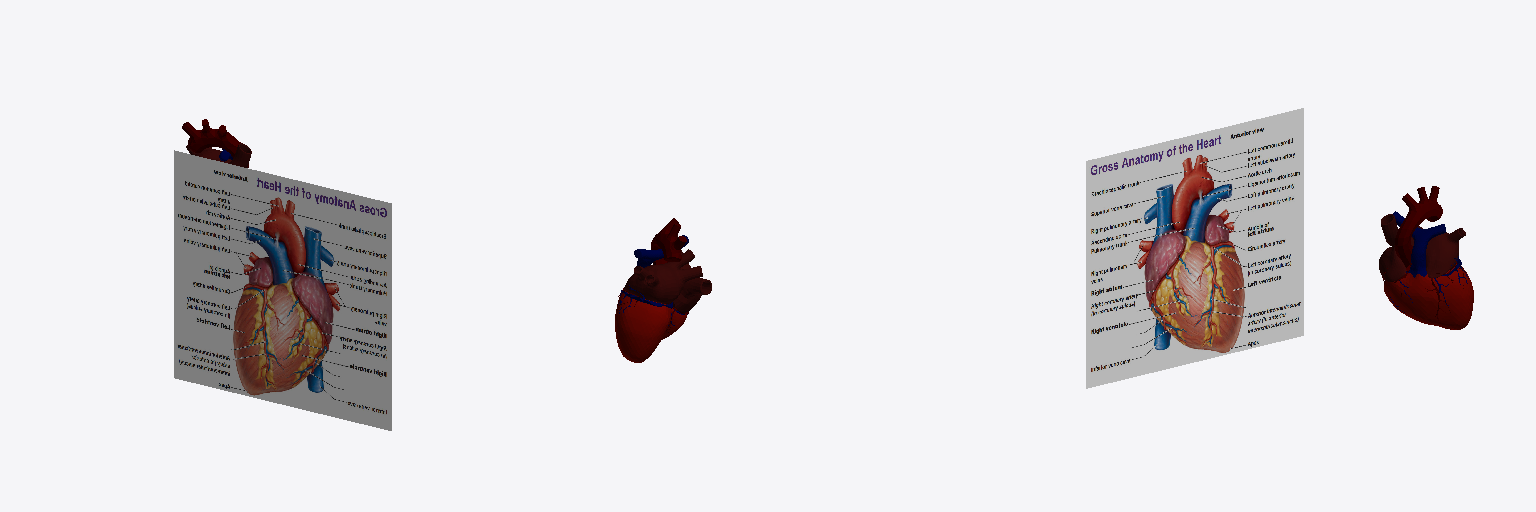
3 views of the same model, side by side, from view 1: azimuth 30°, elevation 25°; view 2: azimuth 150°, elevation 25°; view 3: azimuth 270°, elevation 25° (orthographic).
Visible parts, largest first — view 1: Plane, Aorta_Cube.003; view 2: Ventriculos_Cube.001, Auricula_der_Cube.002, Aorta_Cube.003, Auricula_izq_Cube.004; view 3: Plane, Ventriculos_Cube.001, Aorta_Cube.003, Auricula_der_Cube.002, Auricula_izq_Cube.004, Ventriculos_Cube.000.
Boxes of the visible parts, <box> form: Plane: <box>174,150,391,430</box>; Aorta_Cube.003: <box>182,119,248,167</box>; Ventriculos_Cube.001: <box>615,291,686,362</box>; Auricula_der_Cube.002: <box>624,249,702,304</box>; Aorta_Cube.003: <box>651,218,686,264</box>; Auricula_izq_Cube.004: <box>673,235,711,312</box>; Plane: <box>1086,108,1303,388</box>; Ventriculos_Cube.001: <box>1384,264,1473,329</box>; Aorta_Cube.003: <box>1395,186,1442,267</box>; Auricula_der_Cube.002: <box>1412,226,1465,277</box>; Auricula_izq_Cube.004: <box>1379,214,1422,281</box>; Ventriculos_Cube.000: <box>1393,211,1445,277</box>.
Bounding box in the file's own units: 6.42 × 10 × 15.43.
7 materials, 1 textured.